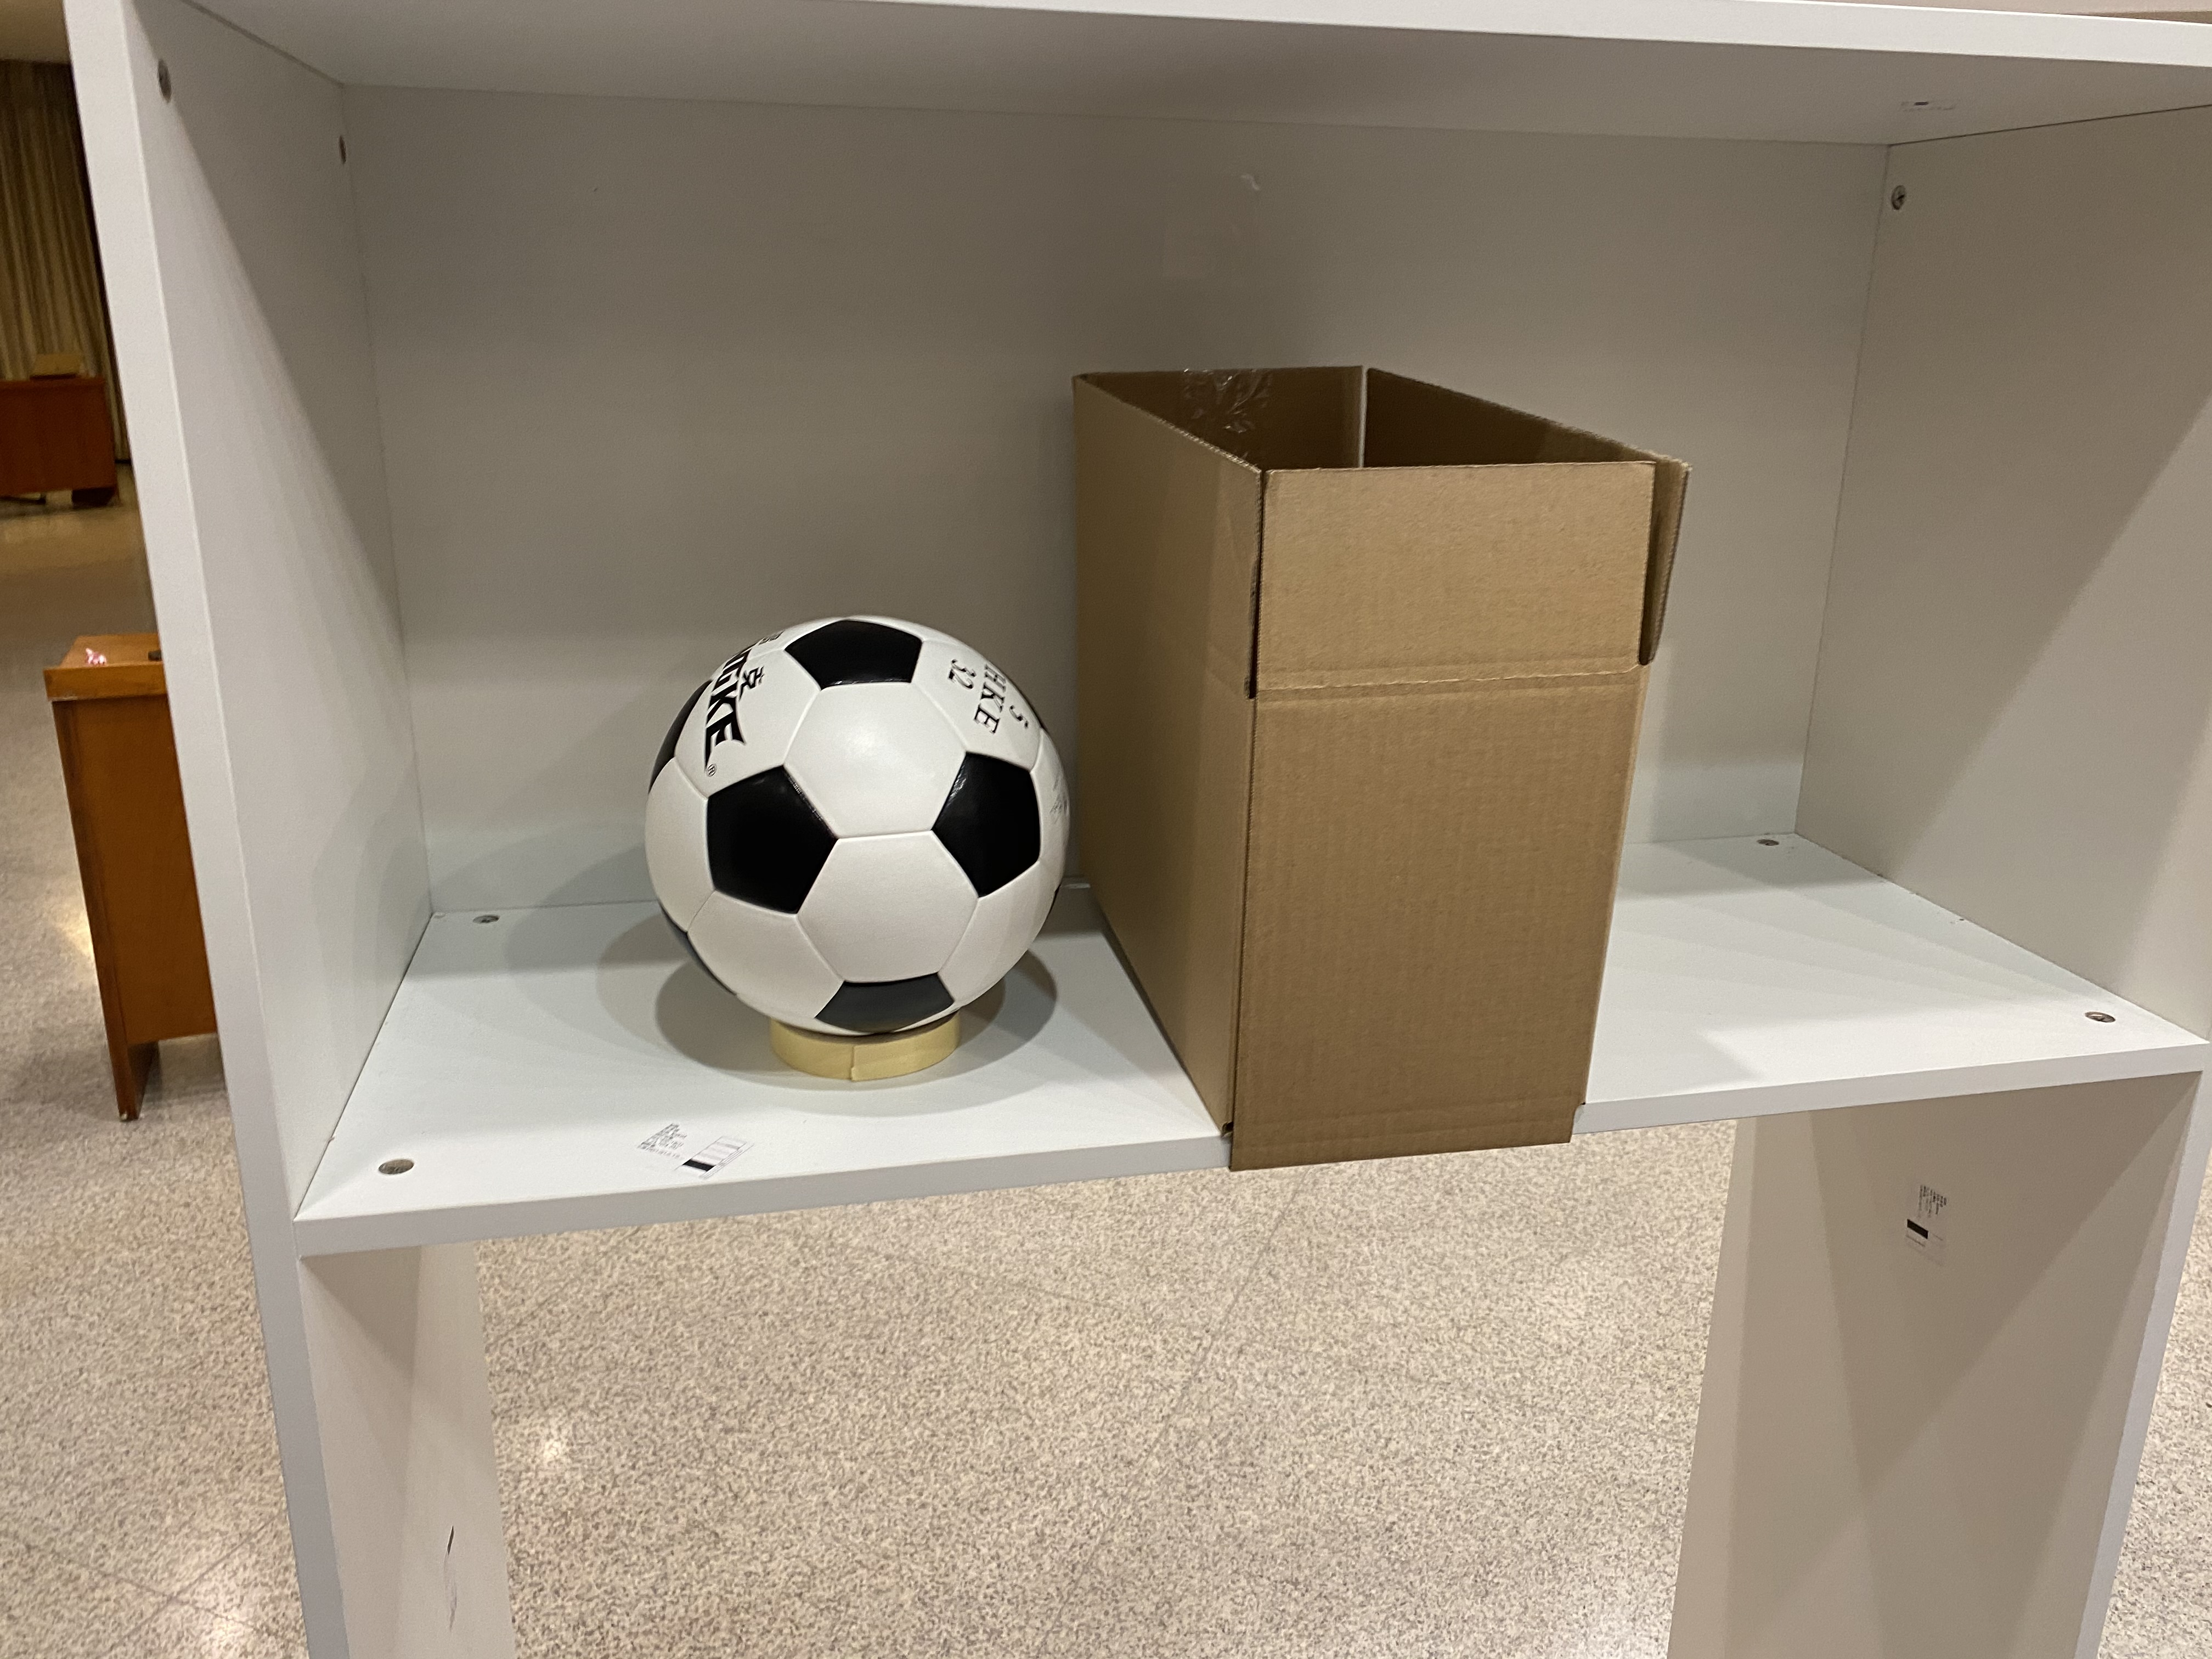football: (634, 599, 1082, 1019)
